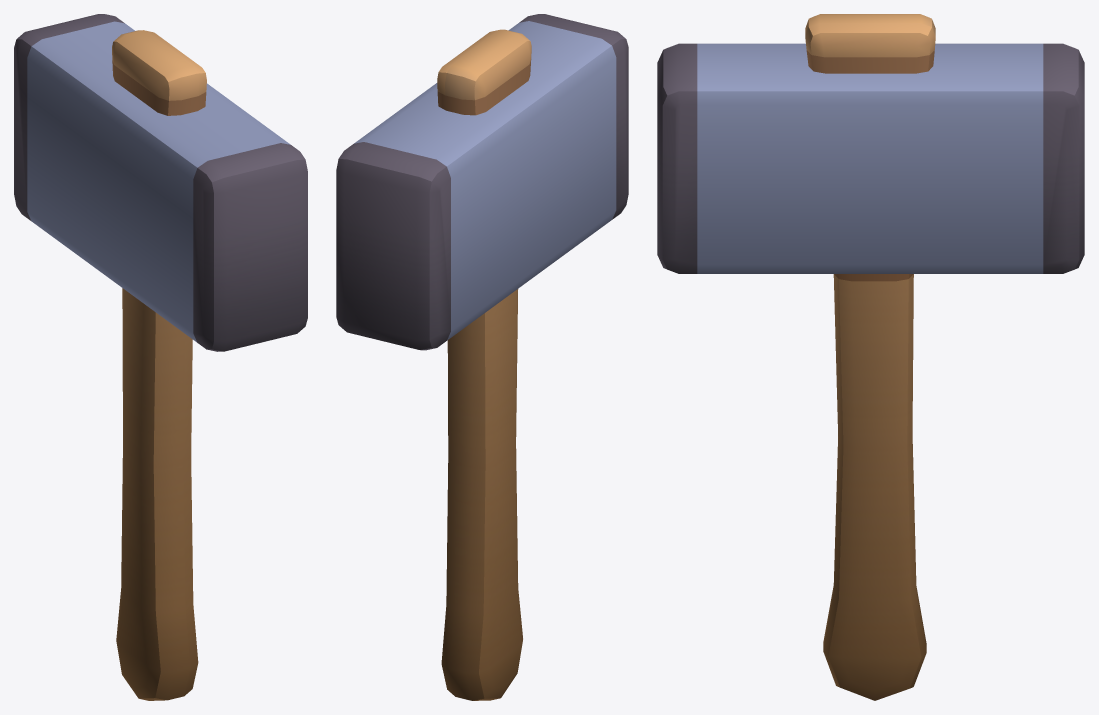
Rendered from Hammer.fbx.
3 views of the same model, side by side, from view 1: azimuth 30°, elevation 25°; view 2: azimuth 150°, elevation 25°; view 3: azimuth 270°, elevation 25° (orthographic). The views are drawn at different scales.
Visible parts, largest first — view 1: Hammer; view 2: Hammer; view 3: Hammer.
Boxes of the visible parts, x1,y1,x2,y2 form: Hammer: (14,14,307,700); Hammer: (336,14,628,700); Hammer: (657,14,1084,700).
Bounding box in the file's own units: 93.67 × 569 × 325.
